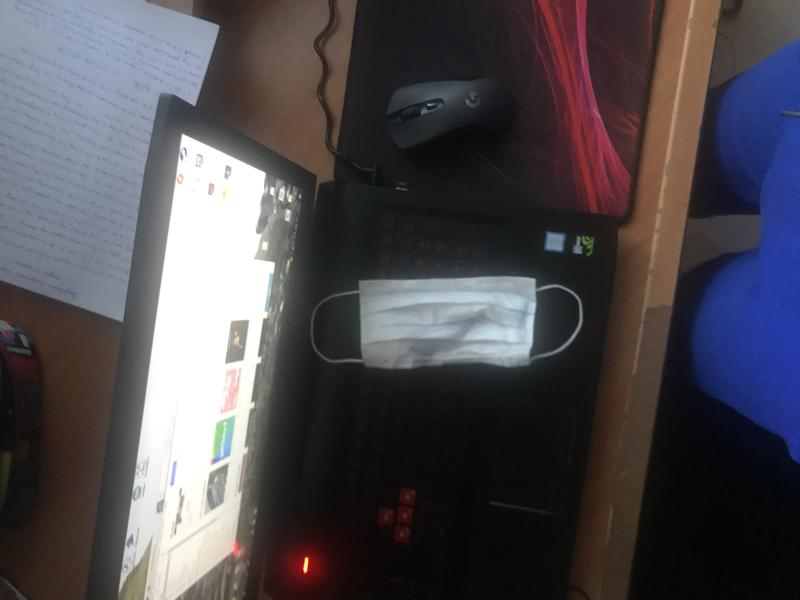medical_mask: (309, 274, 584, 370)
